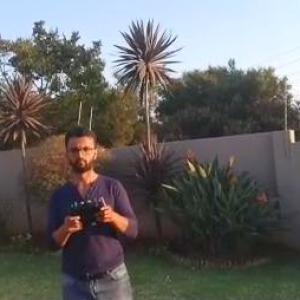follow: (41, 116, 146, 299)
